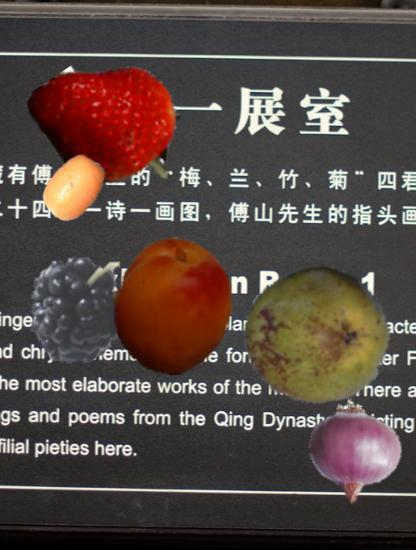Apricot: (104, 237, 242, 375)
Kumquats: (39, 153, 110, 224)
Mulberry: (7, 243, 130, 366)
Onion: (298, 391, 412, 505)
Pear: (244, 263, 390, 409)
Strawberry: (39, 52, 189, 202)
